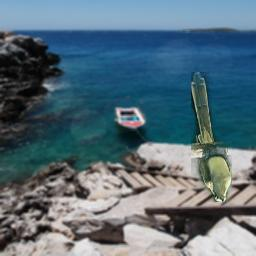Cuckoo: (191, 72, 232, 202)
